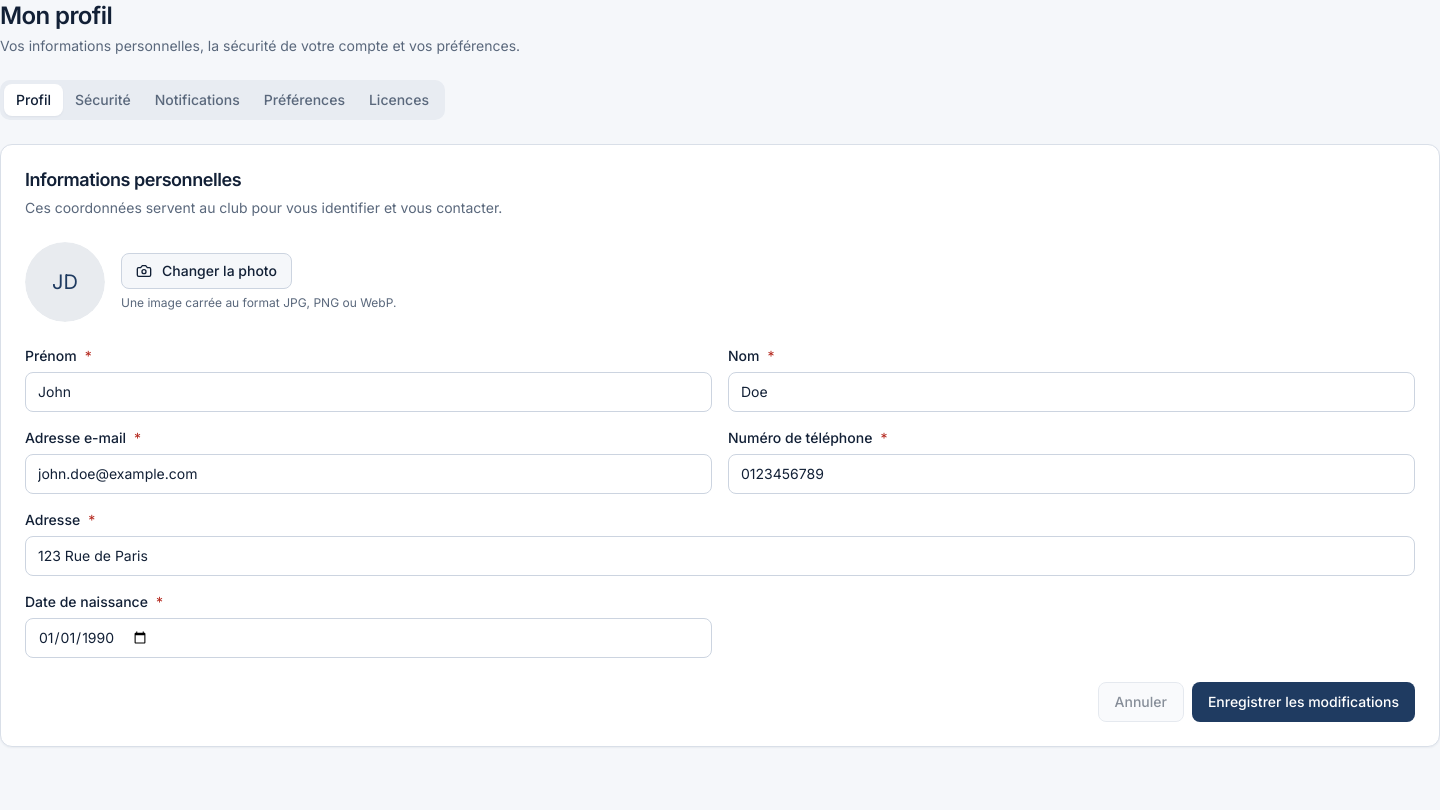
Test case: ProfilePage Component › affiche des erreurs de validation et n'envoie rien si le formulaire est incorrect
Clear the field labelled "Prénom" at coordinates (368, 392), box [25,372,712,412]
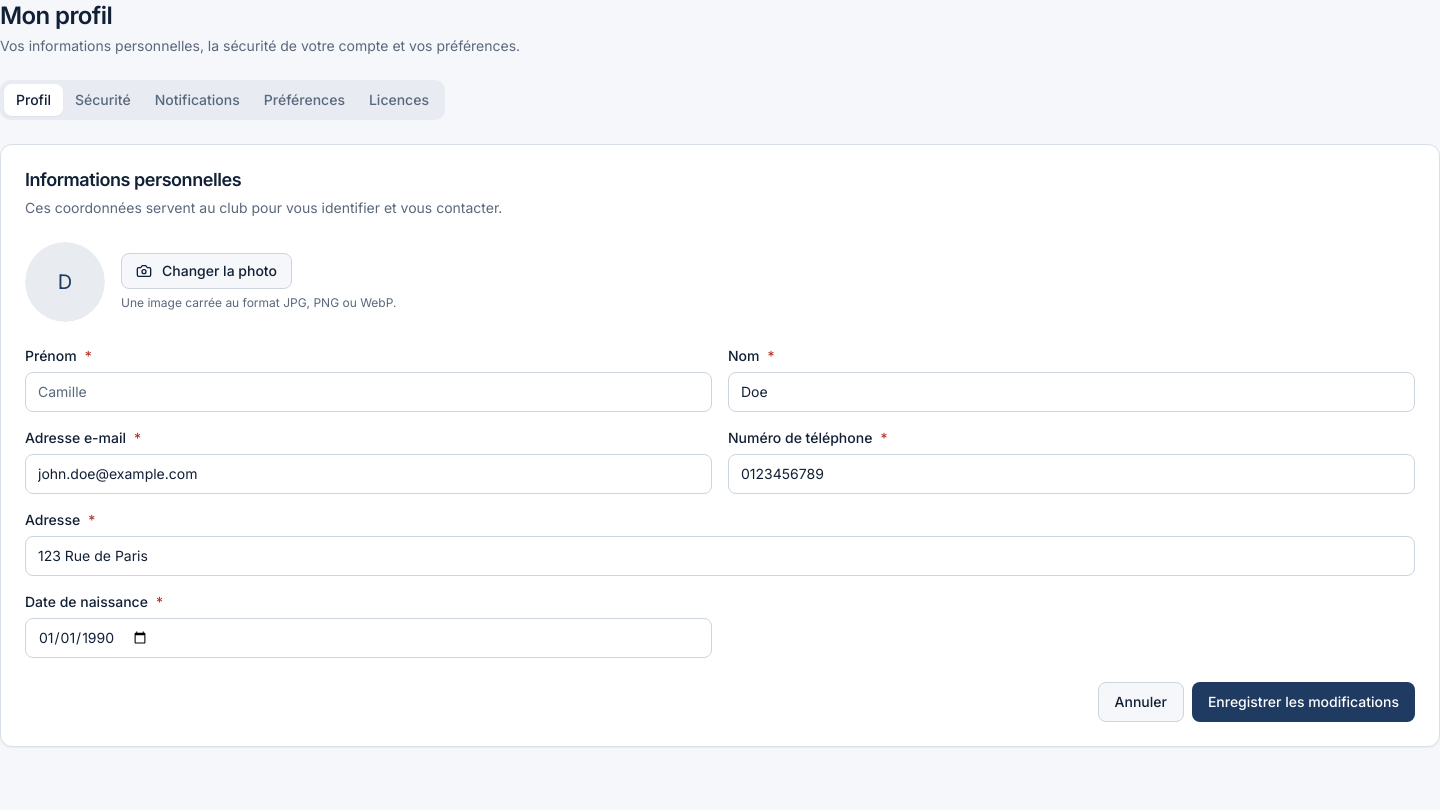
Replace the text in the field labelled "Nom" with "D" at coordinates (1072, 392), box [728,372,1415,412]
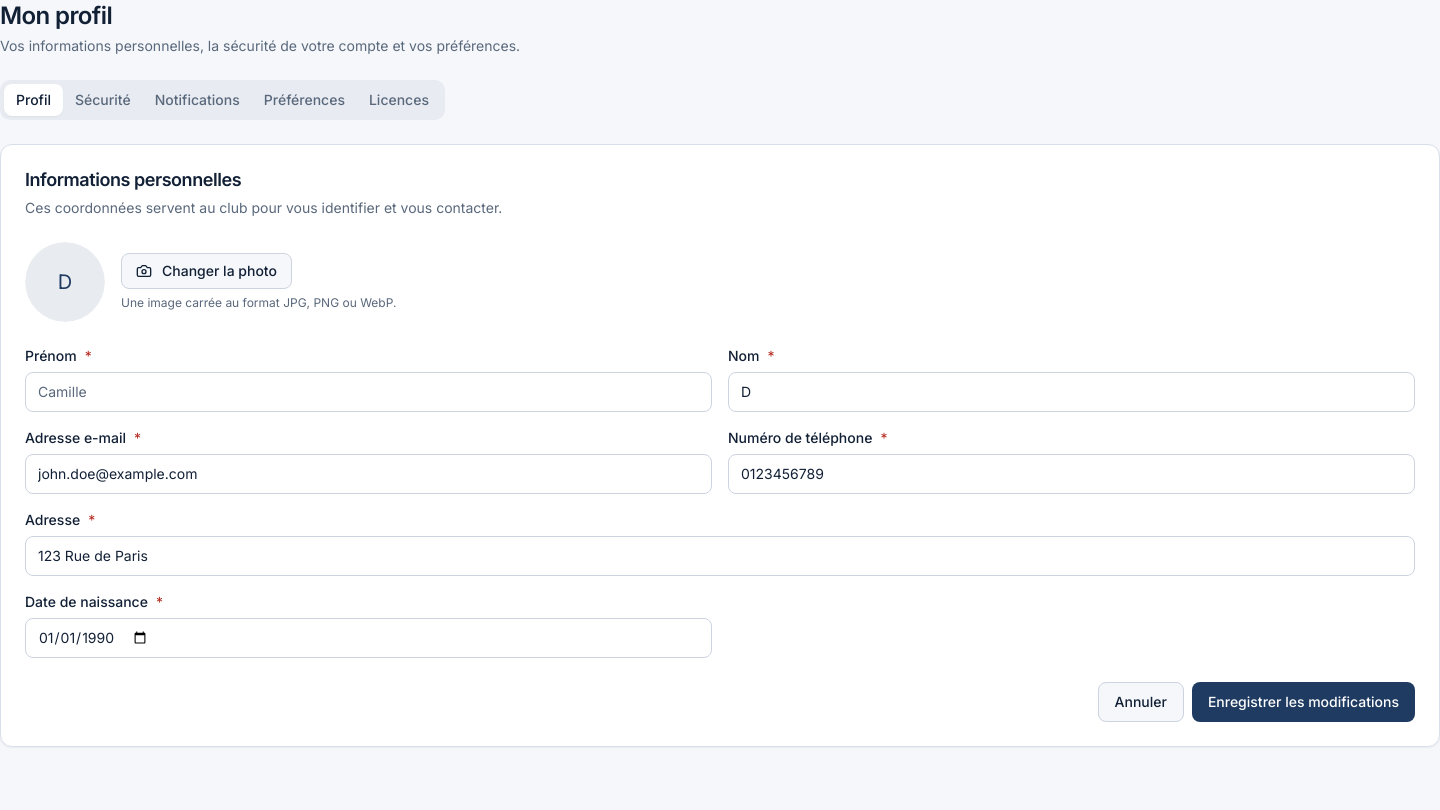
Replace the text in the field labelled "Adresse e-mail" with "pas-un-email" at coordinates (368, 474), box [25,454,712,494]
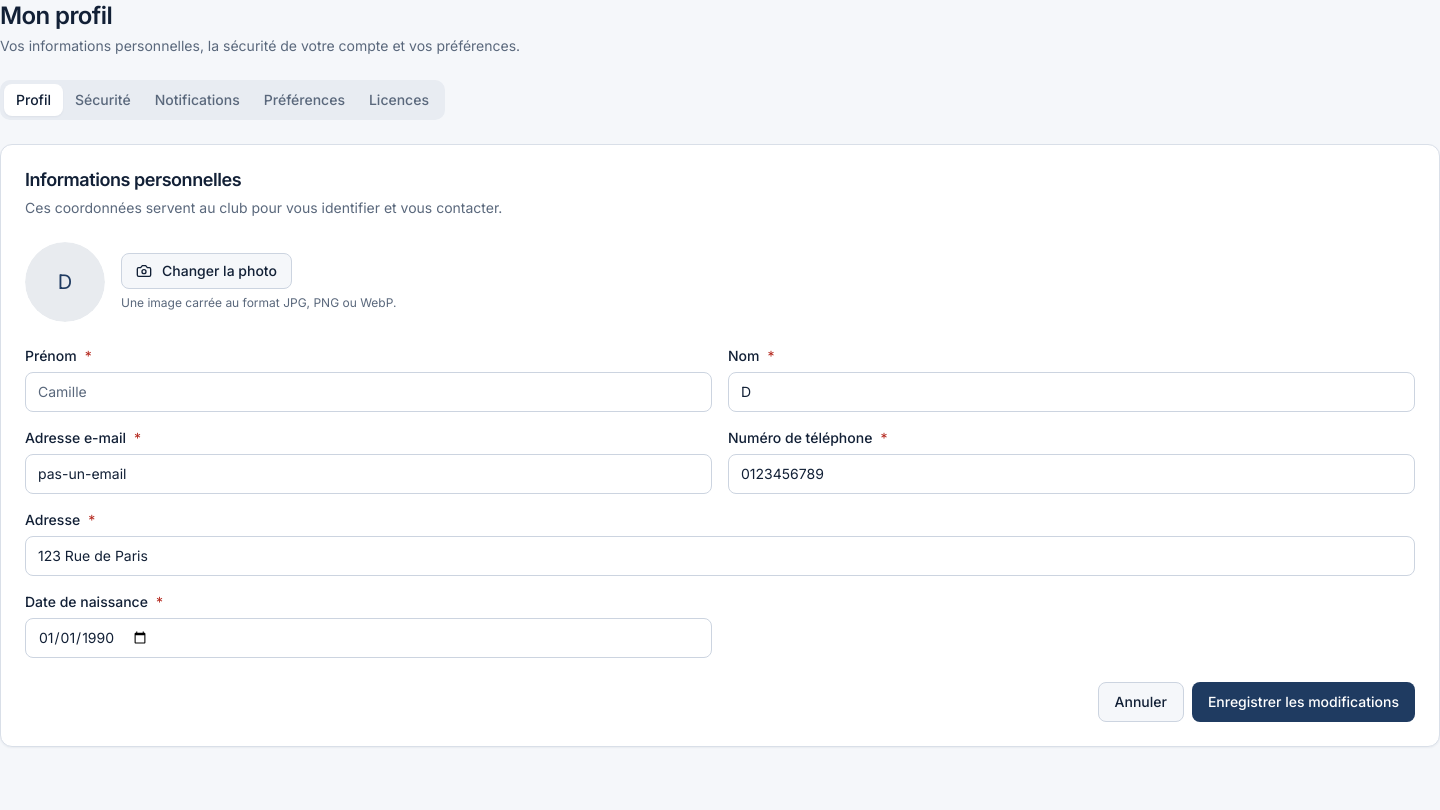
Replace the text in the field labelled "Numéro de téléphone" with "123" at coordinates (1072, 474), box [728,454,1415,494]
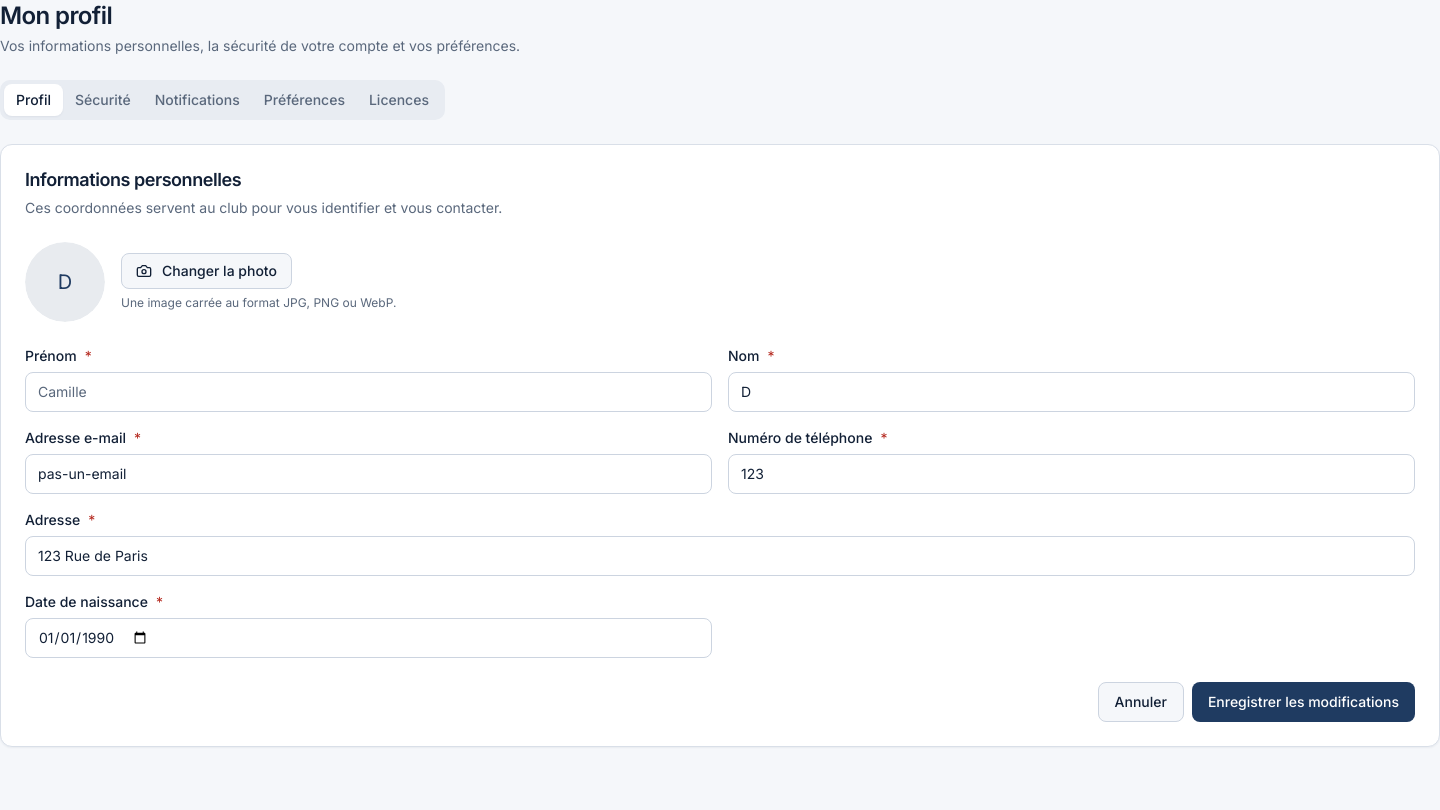
Click the button "Enregistrer les modifications".
click(1303, 702)  # box [1192,682,1415,722]
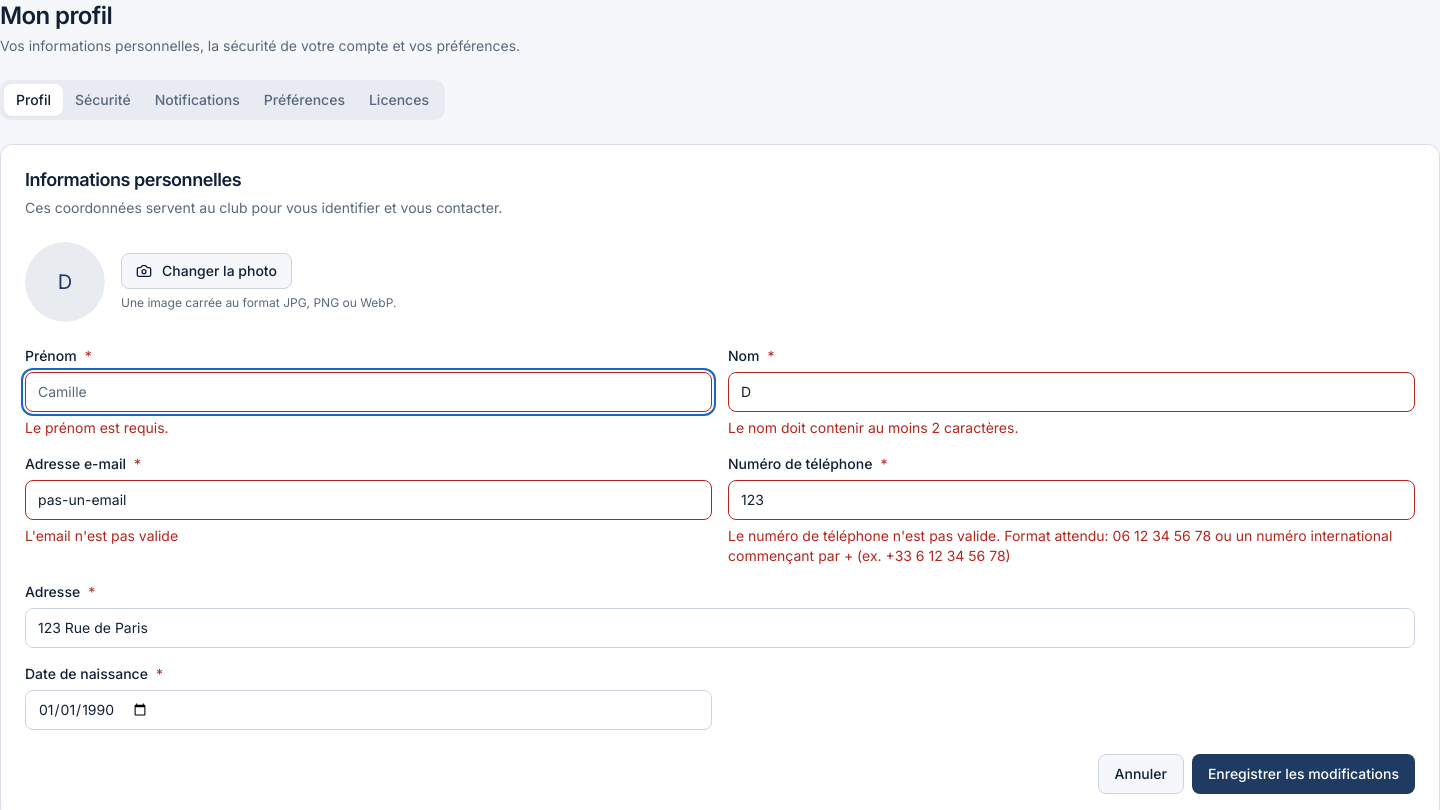
Result: the text "Le prénom est requis." is shown at [25,418,169,436]
Result: the text "Le nom doit contenir au moins 2 caractères." is shown at [728,418,1018,436]
Result: the text "L'email n'est pas valide" is shown at [25,526,178,544]
Type "Jane" into the field labelled "Prénom".
click(368, 392); type("Jane")  # box [25,372,712,412]
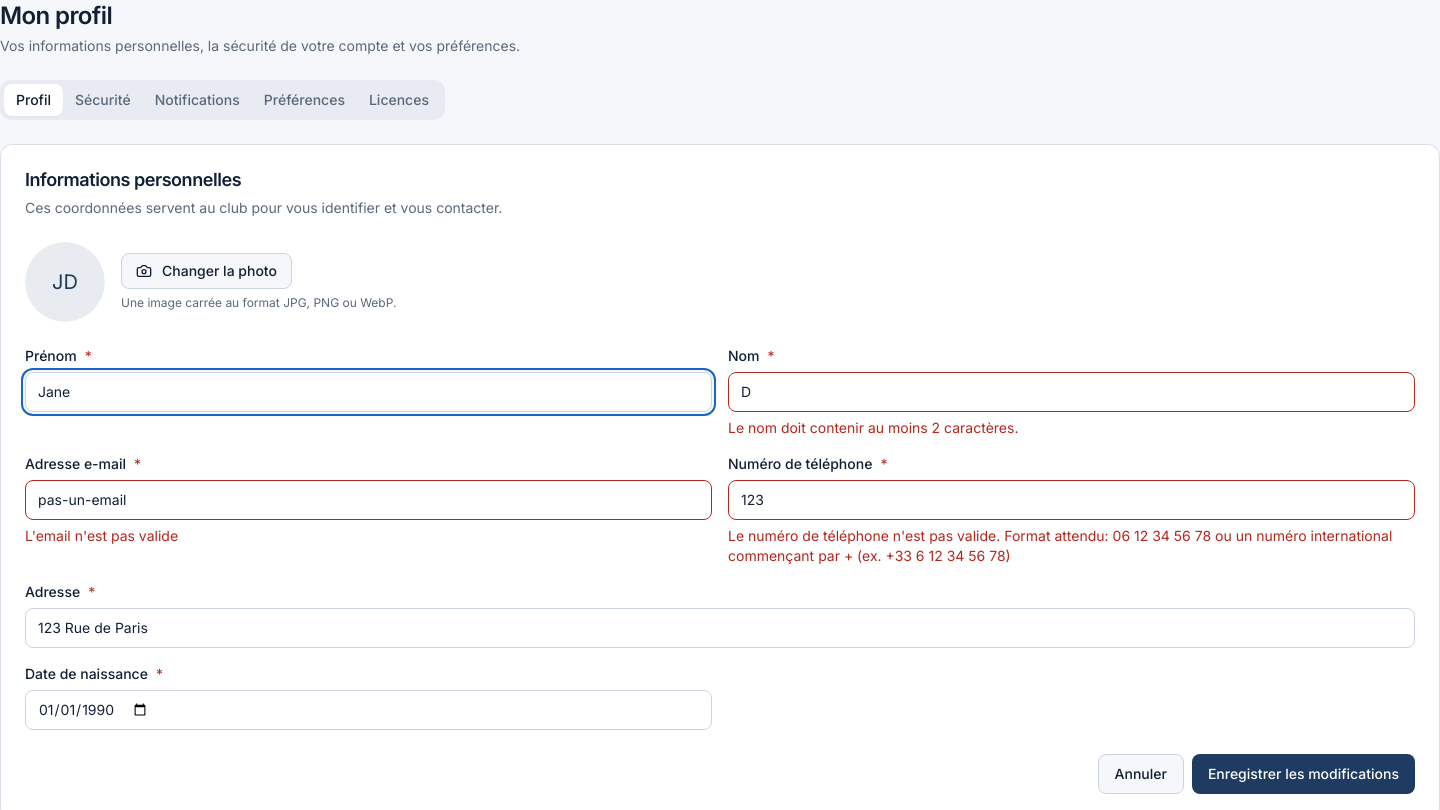
Result: the text "Le prénom est requis." is gone
